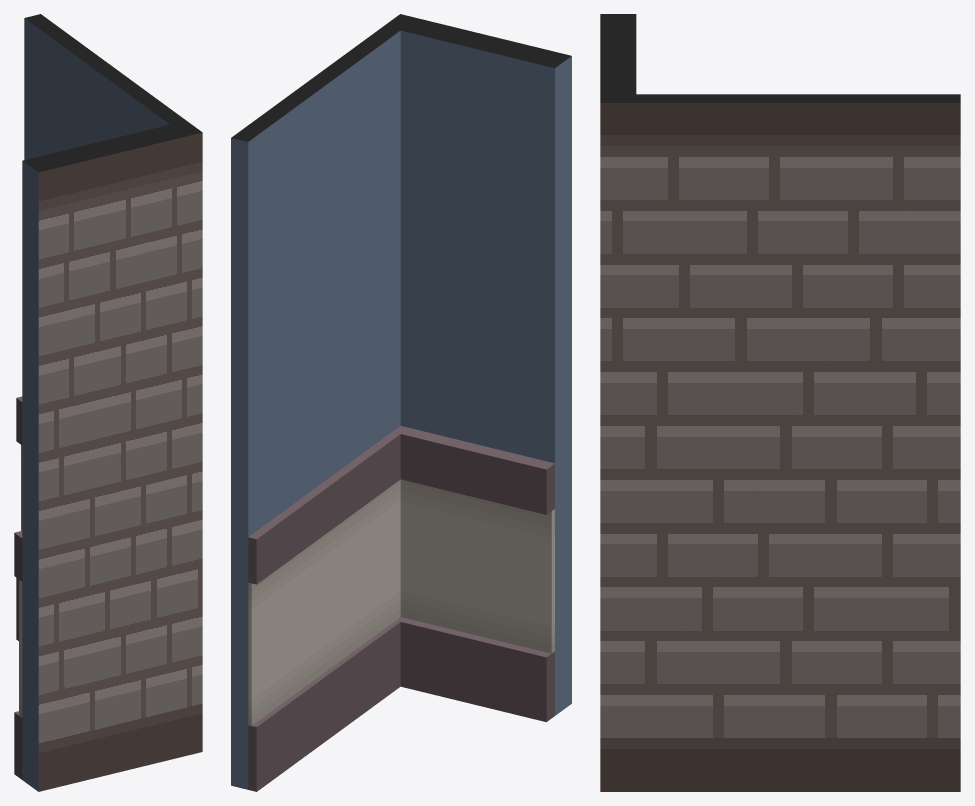
The model's file is mesh_wall_corner.glb.
3 views of the same model, side by side, from view 1: azimuth 30°, elevation 25°; view 2: azimuth 150°, elevation 25°; view 3: azimuth 270°, elevation 25° (orthographic). The views are drawn at different scales.
Visible parts, largest first — view 1: mesh_wall_corner_mat_wall_inside_1_0; view 2: mesh_wall_corner_mat_wall_inside_1_0; view 3: mesh_wall_corner_mat_wall_inside_1_0.
Boxes of the visible parts, x1,y1,x2,y2 form: mesh_wall_corner_mat_wall_inside_1_0: (14, 14, 202, 791); mesh_wall_corner_mat_wall_inside_1_0: (231, 14, 571, 791); mesh_wall_corner_mat_wall_inside_1_0: (600, 14, 960, 791).
Bounding box in the file's own units: 0.9604 × 3.46 × 1.64.
2 materials, 2 textured.
